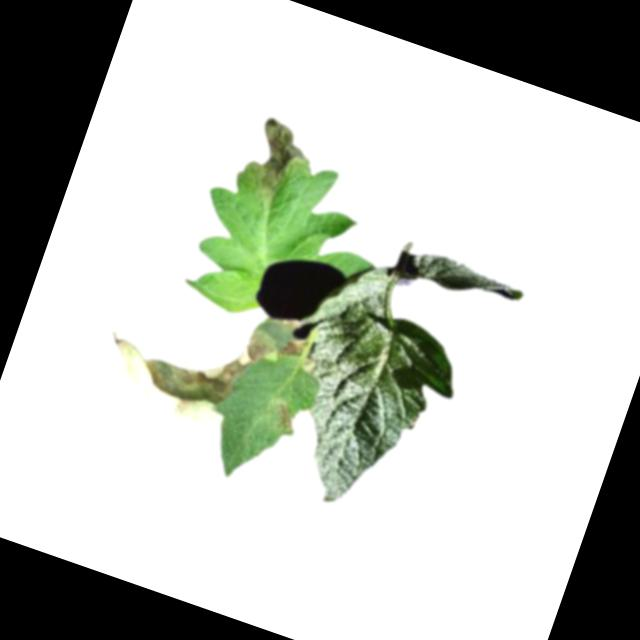Late_blight: (99, 283, 282, 442), (234, 113, 317, 207), (267, 397, 300, 435), (276, 334, 308, 363)
healthy: (266, 251, 486, 530)
